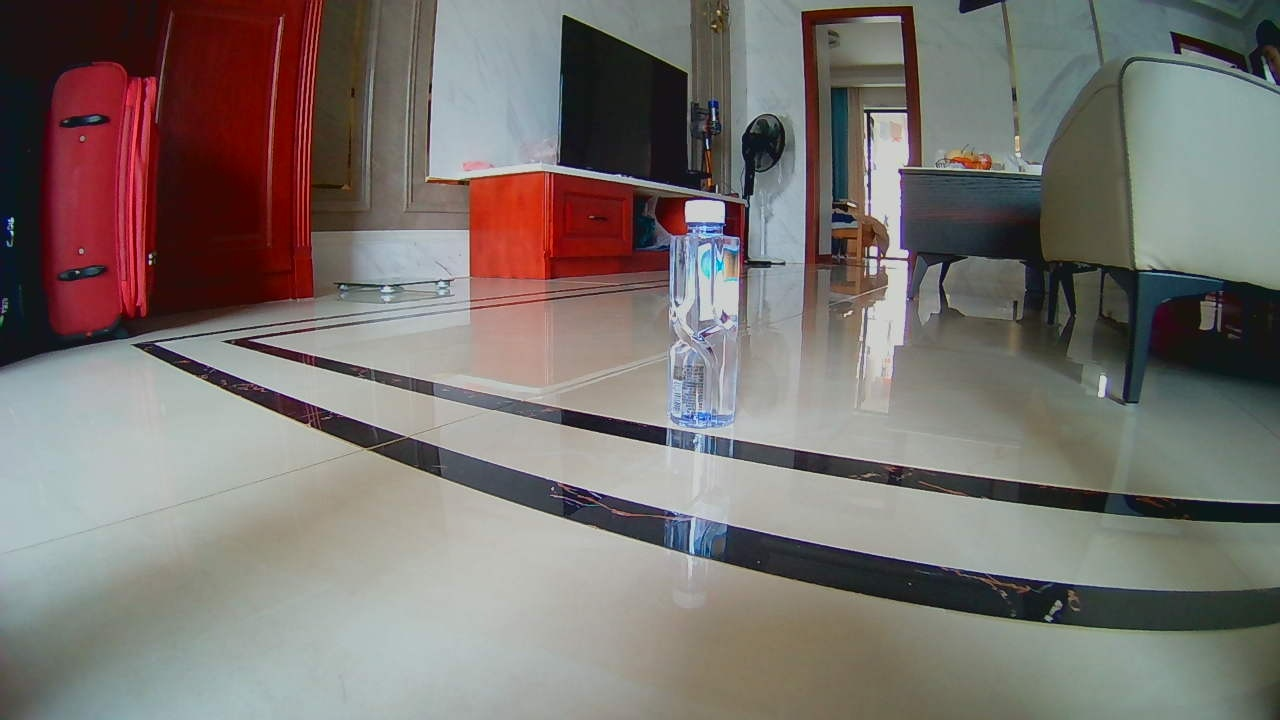water: (667, 198, 740, 427)
